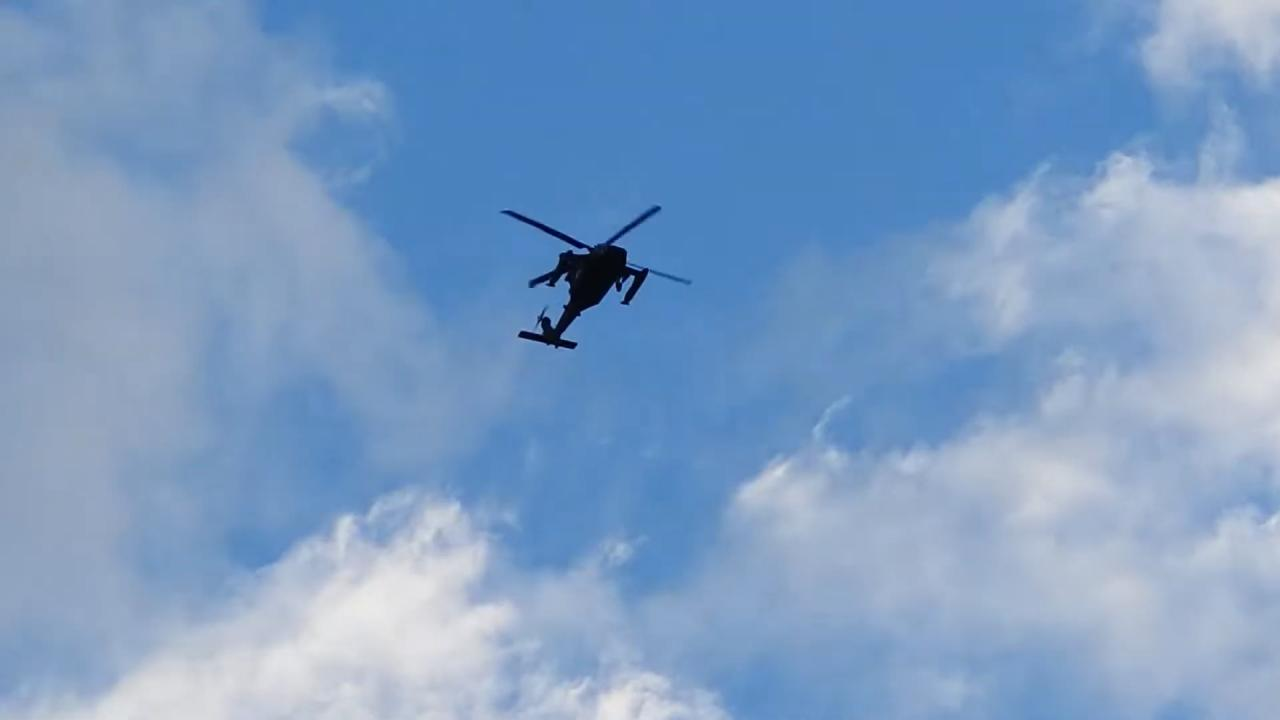Helicopter: (492, 189, 702, 358)
